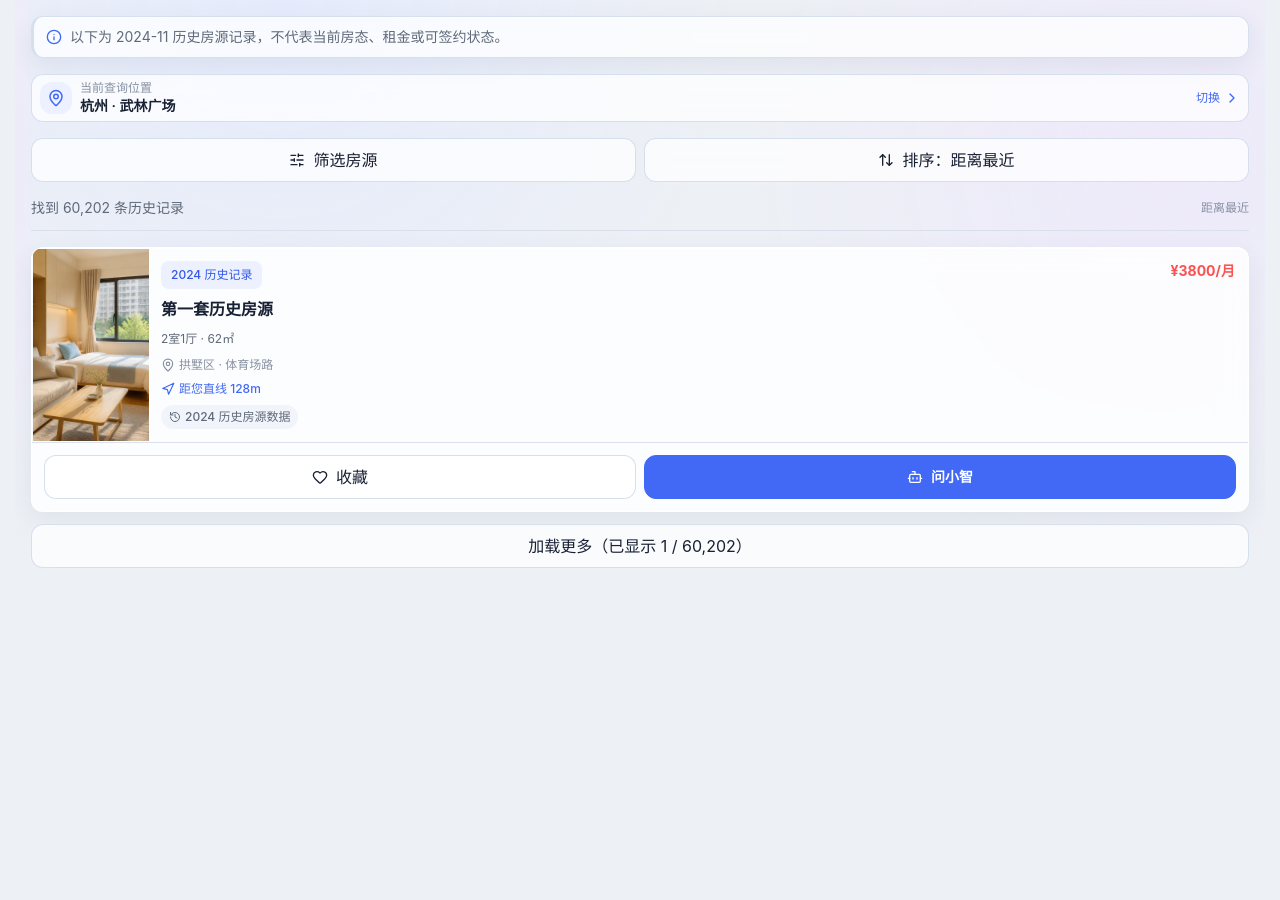
it: HistoricalHouseListExperience › loads the full historical source by selected-location distance and paginates
Expected: the text "找到 60,202 条历史记录" is shown, [31,198,184,218]
Expected: the heading "第一套历史房源" is shown, [161,299,273,319]
Click the button "加载更多（已显示 1 / 60,202）". click: (640, 546)
box: [31,524,1249,568]
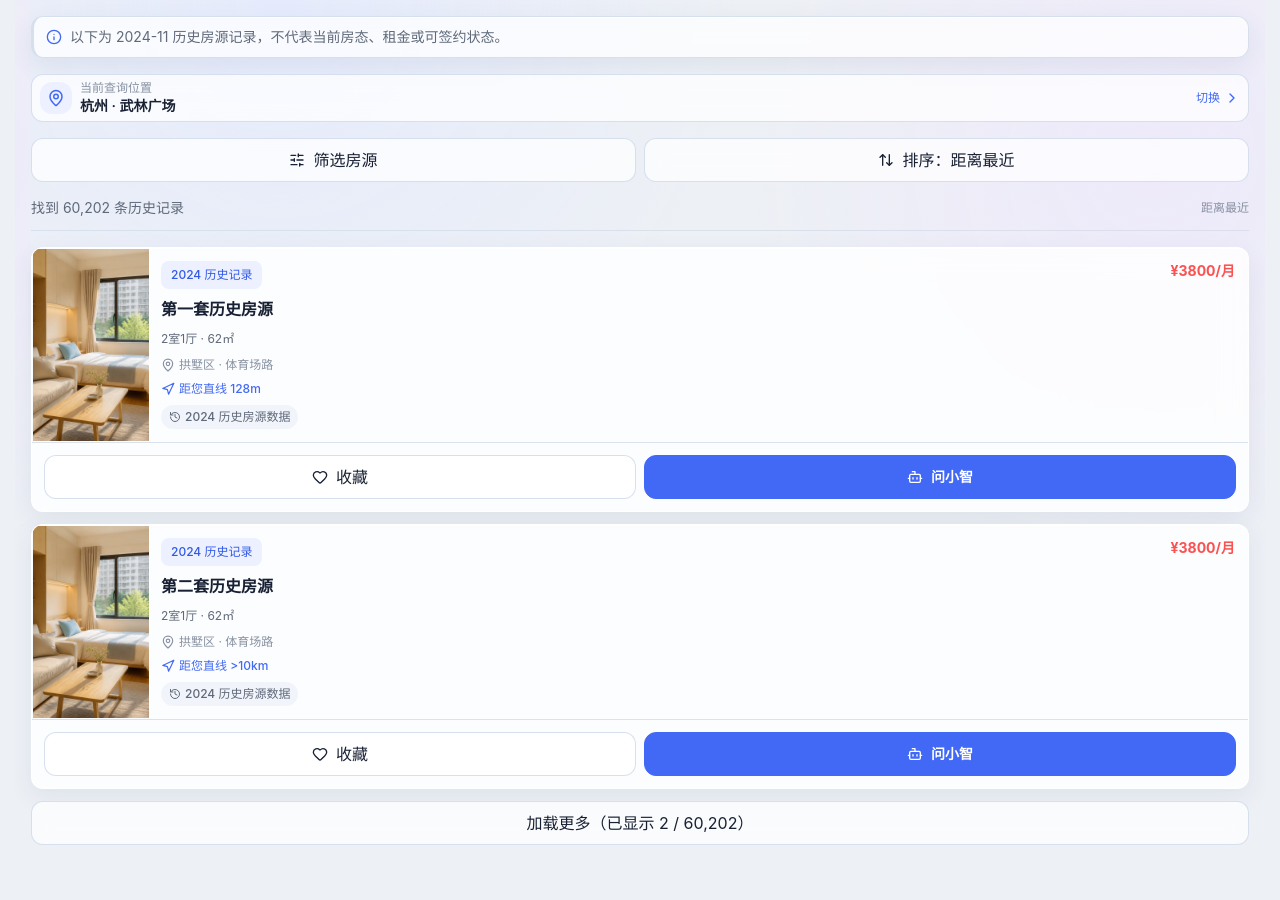
Now the heading "第二套历史房源" is shown, box [161,576,273,596]
Now the text "距您直线 >10km" is shown, box [161,658,268,673]
